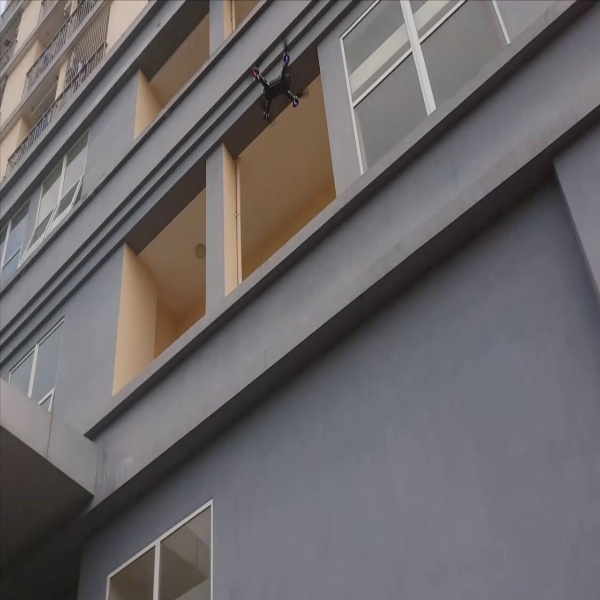drone: (246, 33, 311, 124)
